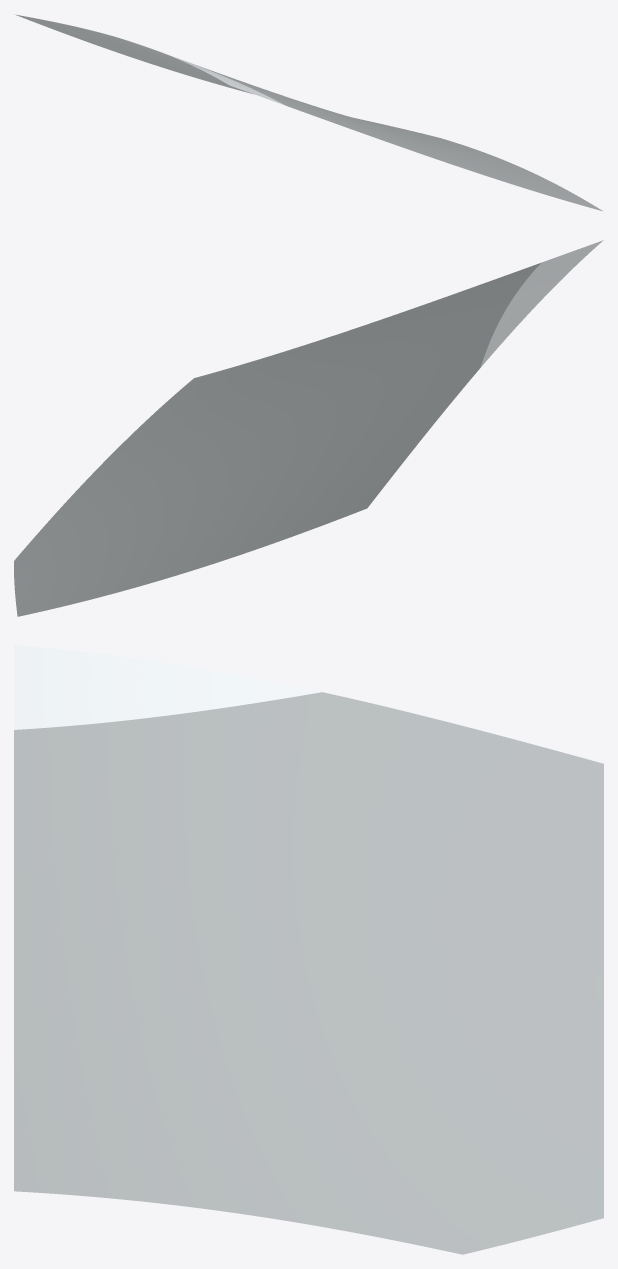
File: alpine-10-6.glb
The picture shows the model from 3 angles, top to bottom: view 1: azimuth 30°, elevation 25°; view 2: azimuth 150°, elevation 25°; view 3: azimuth 270°, elevation 25°; orthographic projection. The views are drawn at different scales.
Parts seen in each view (by area): view 1: alpine-10-6; view 2: alpine-10-6; view 3: alpine-10-6.
Part boxes in pixels (box(x1,y1,x2,y2)): alpine-10-6: box(15, 14, 602, 211); alpine-10-6: box(14, 240, 603, 616); alpine-10-6: box(14, 645, 603, 1254).
Bounding box in the file's own units: 256 × 172 × 256.
Materials: 2 (2 with a texture image).
